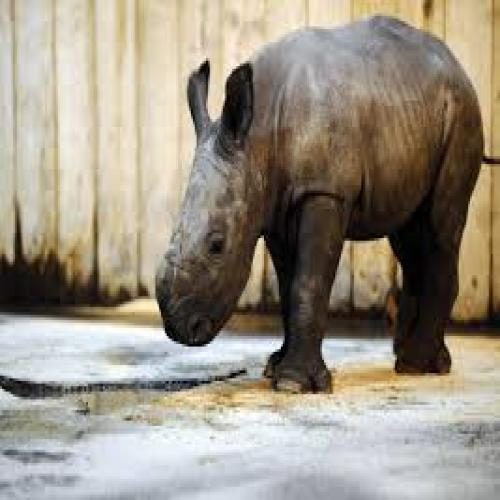rhino-endangered: (162, 32, 472, 375)
